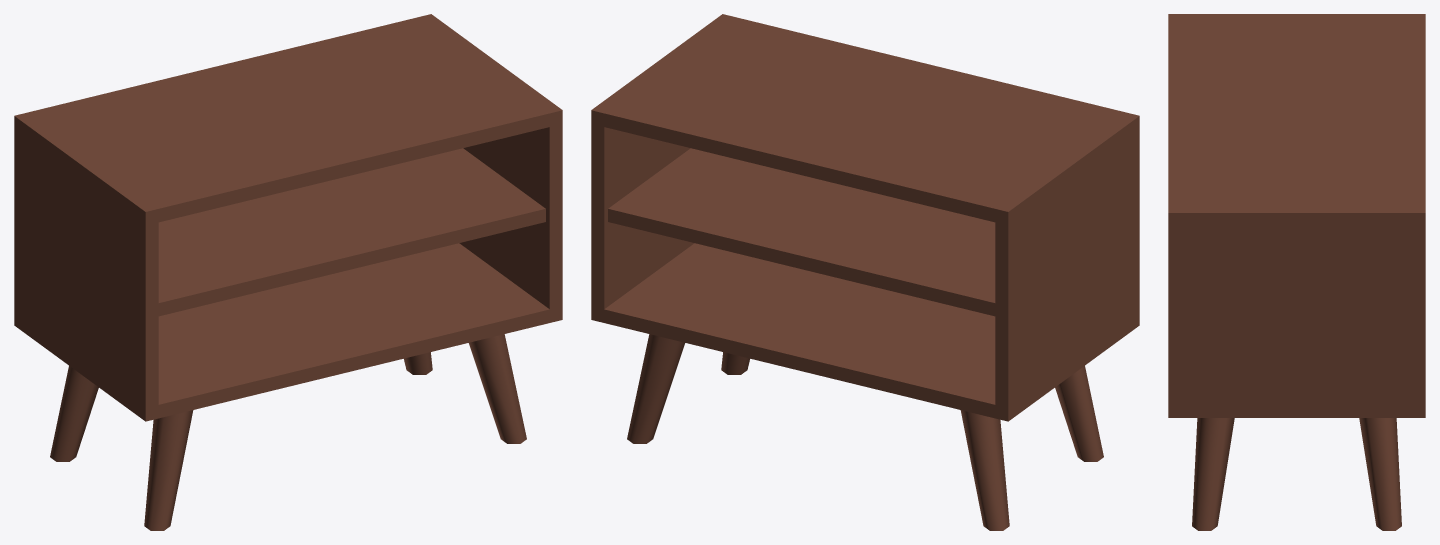
File: Cabinet_02.fbx
The picture shows the model from 3 angles, left to right: view 1: azimuth 30°, elevation 25°; view 2: azimuth 150°, elevation 25°; view 3: azimuth 270°, elevation 25°; orthographic projection. The views are drawn at different scales.
Visible parts, largest first — view 1: Cabinet_02; view 2: Cabinet_02; view 3: Cabinet_02.
Boxes of the visible parts, left/top/right/bottom form: Cabinet_02: left=14, top=14, right=562, bottom=530; Cabinet_02: left=591, top=14, right=1139, bottom=530; Cabinet_02: left=1168, top=14, right=1425, bottom=530.
Size of the model in its own units: 0.8524 by 0.6545 by 0.4654.
